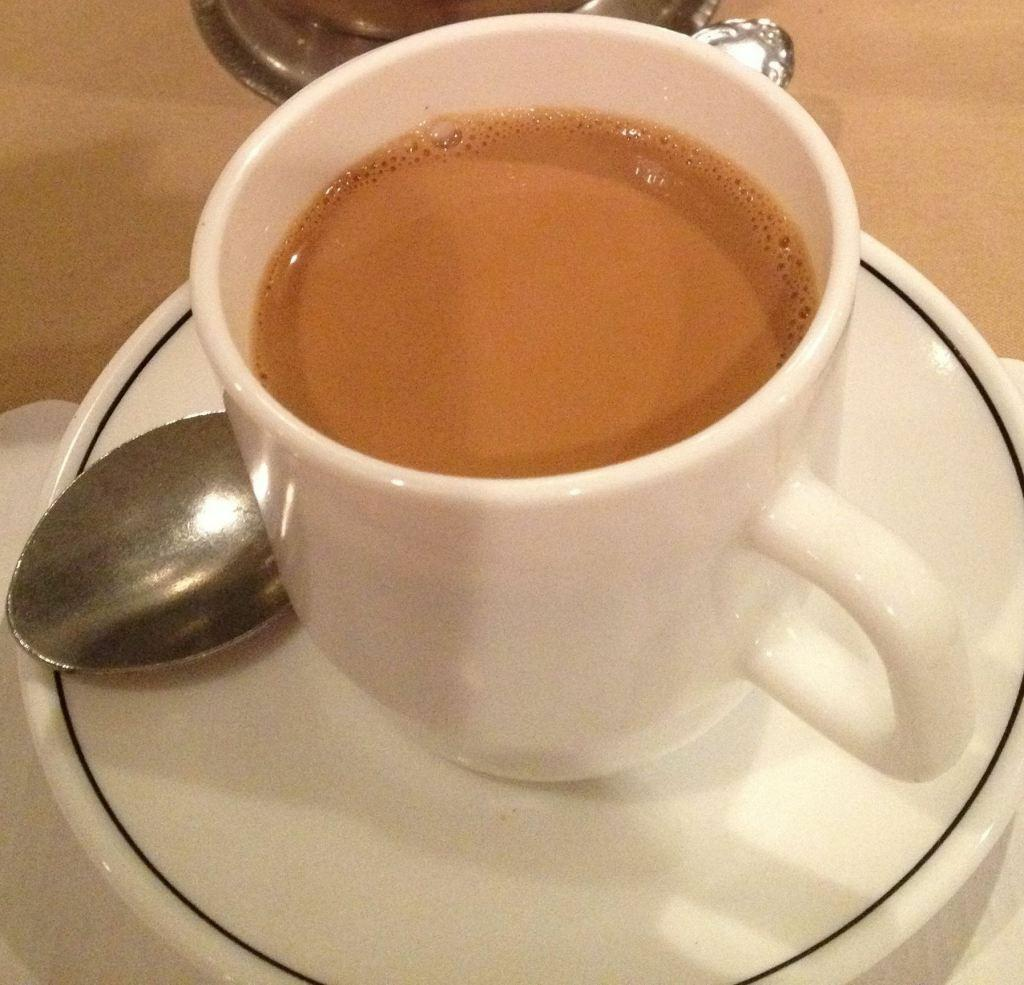Chai: (250, 102, 803, 475)
